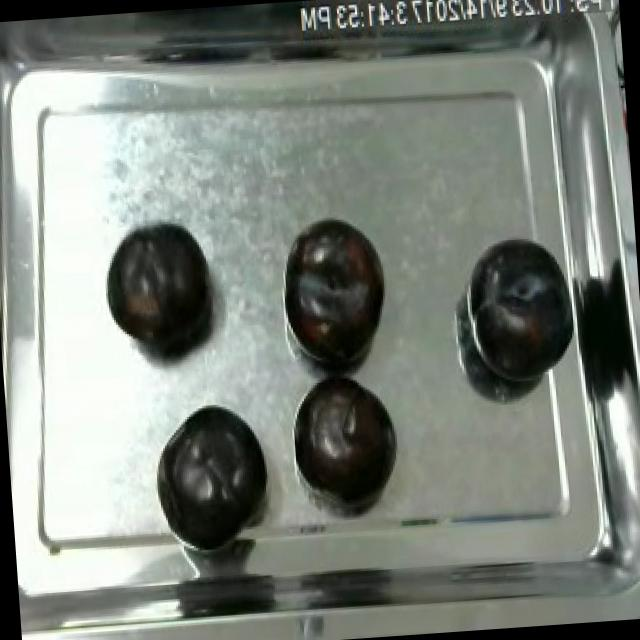Fruit: (458, 226, 581, 392), (156, 396, 276, 557), (99, 215, 222, 365), (283, 210, 395, 366), (296, 370, 404, 502)
